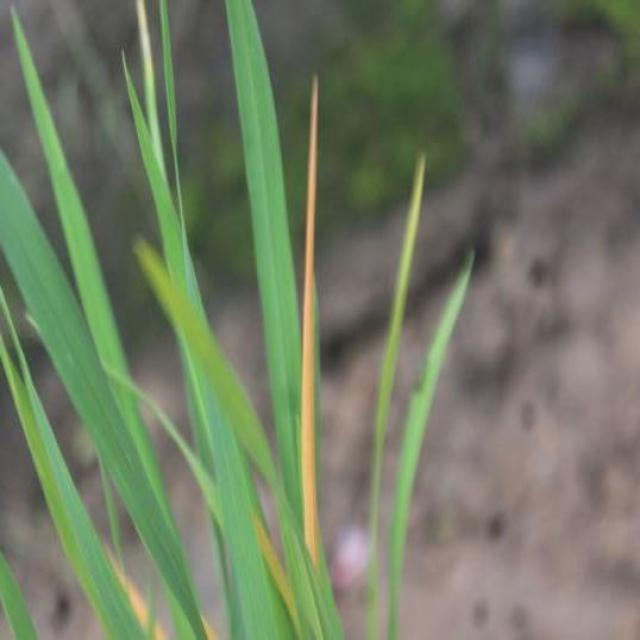Rice Tungro: (282, 58, 330, 565)
